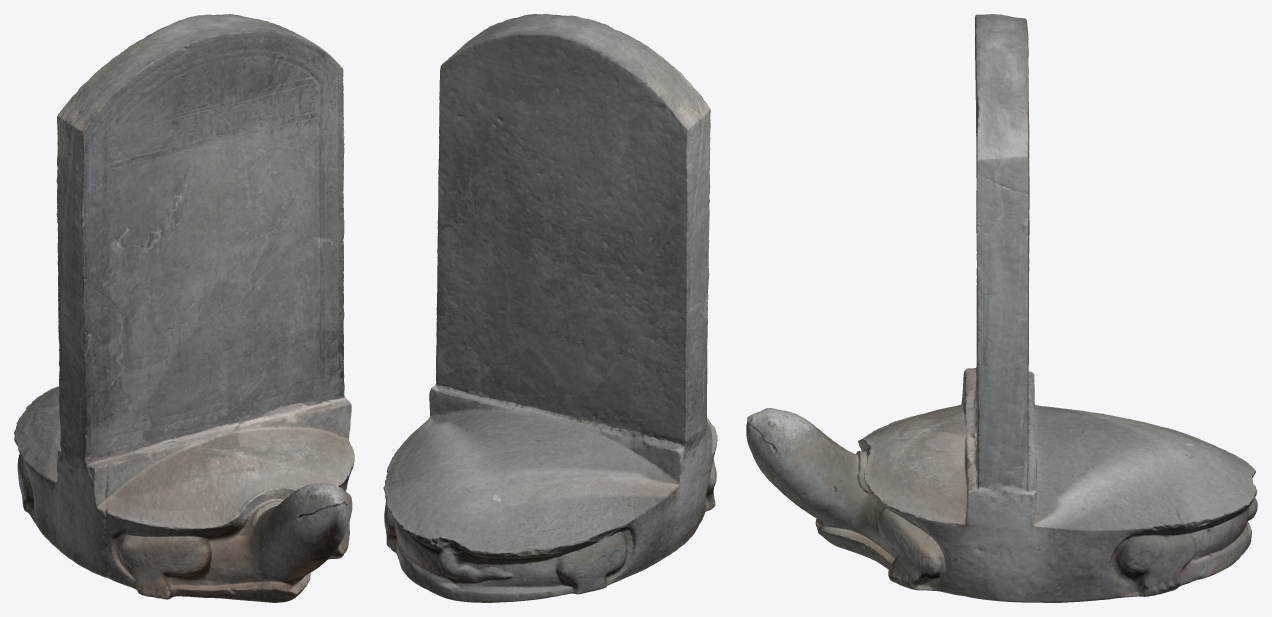
File: bia-1514.glb
3 views of the same model, side by side, from view 1: azimuth 30°, elevation 25°; view 2: azimuth 150°, elevation 25°; view 3: azimuth 270°, elevation 25° (orthographic). The views are drawn at different scales.
Visible parts, largest first — view 1: 35-1514; view 2: 35-1514; view 3: 35-1514.
Part boxes in pixels (box(x1,y1,x2,y2)): 35-1514: box(14, 14, 354, 602); 35-1514: box(383, 14, 717, 602); 35-1514: box(746, 14, 1257, 602).
Bounding box in the file's own units: 0.5481 × 1 × 0.9122.
1 material, 1 textured.
